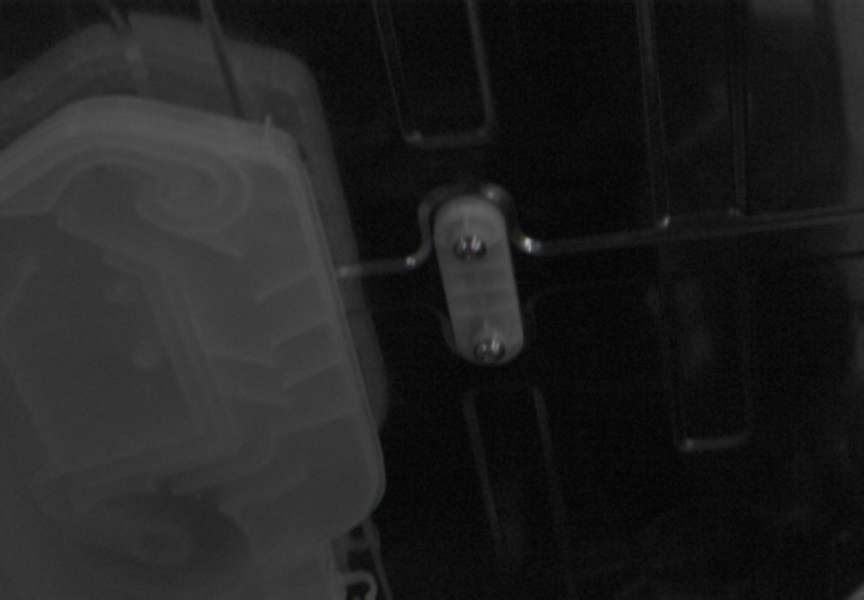screw: (453, 234, 487, 261), (474, 337, 506, 364)
